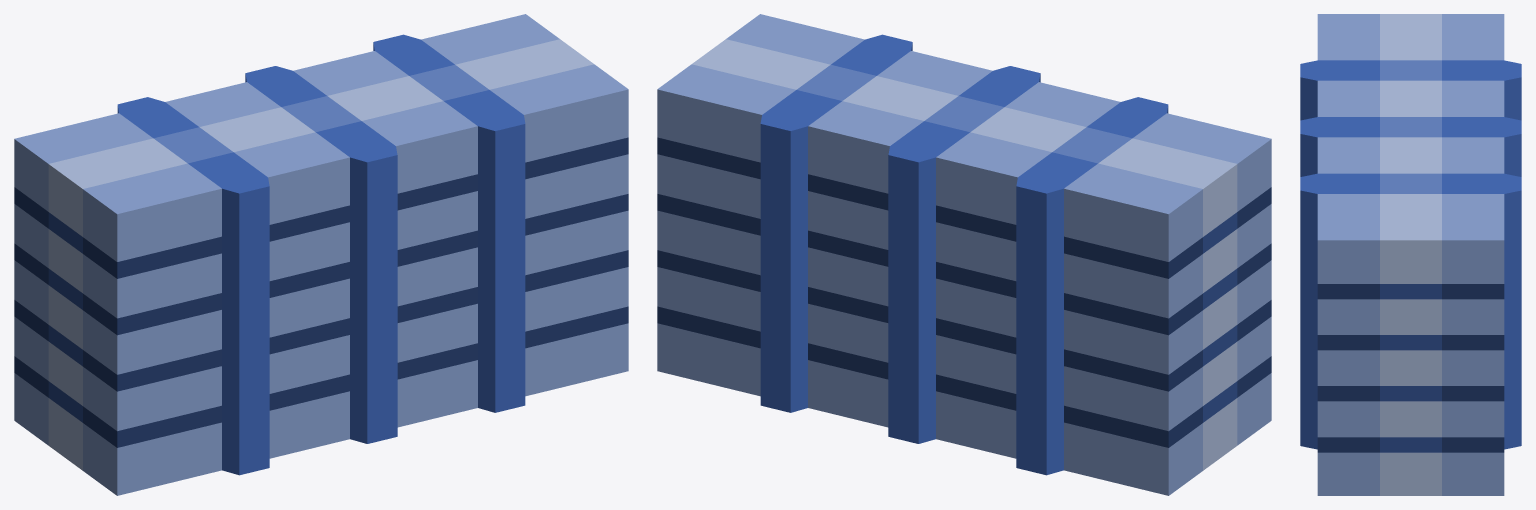
The model's file is Bld_8.fbx.
The picture shows the model from 3 angles, left to right: view 1: azimuth 30°, elevation 25°; view 2: azimuth 150°, elevation 25°; view 3: azimuth 270°, elevation 25°; orthographic projection. The views are drawn at different scales.
Visible parts, largest first — view 1: Cube.015; view 2: Cube.015; view 3: Cube.015.
Part boxes in pixels (x1,y1,x2,y2): Cube.015: (14, 14, 628, 495); Cube.015: (657, 14, 1271, 495); Cube.015: (1300, 14, 1521, 495).
Size of the model in its own units: 1507 by 793 by 622.
